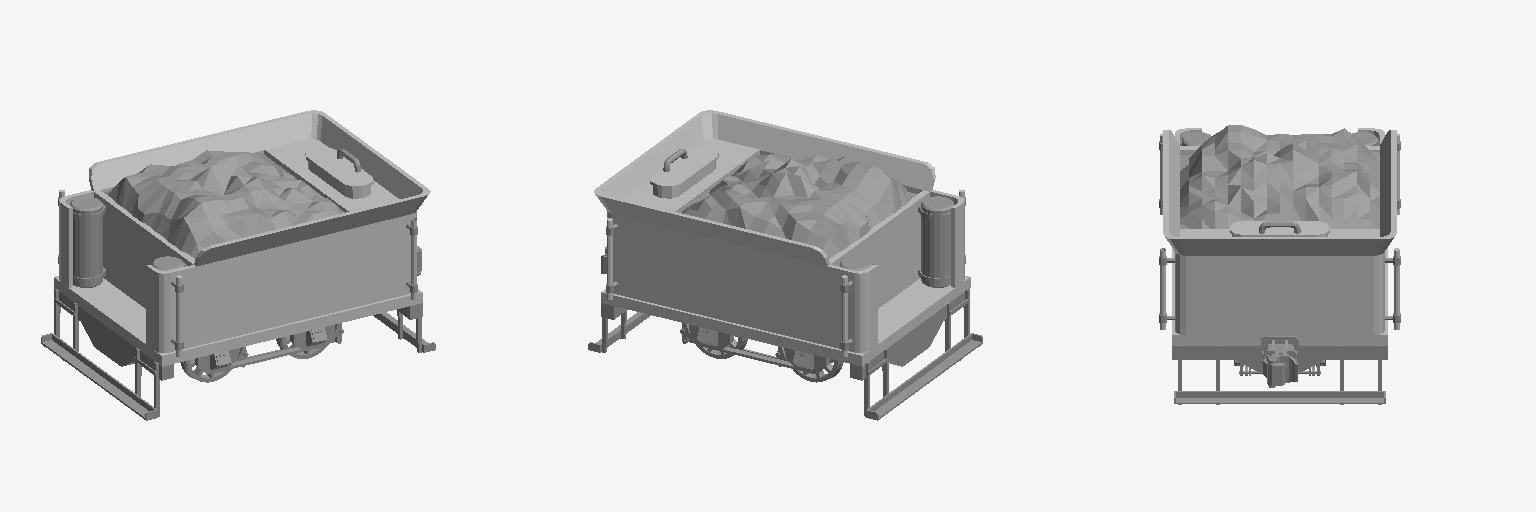
Rendered from porter0-4-0tender.obj.
3 renders of one model, left to right at view 1: azimuth 30°, elevation 25°; view 2: azimuth 150°, elevation 25°; view 3: azimuth 270°, elevation 25°, orthographic.
Visible parts, largest first — view 1: SHELL_Cube.004_Cube.036, Plane.056, FRAME_Cube.001_Cube.035, Cube.005_Cube.039, SHELL.001_FRAME.004_Cube.014_FRAME.004_Cube.009_FRAME.004_C.001, PIPING.004_Cylinder.006_Cylinder.005_PIPING.004_Cylinder.00.003, Cube.006_Cube.040, PIPING.002_NurbsPath.006_NurbsPath.002, FRAME.048_Cube.000, FRAME.001_Cube.001, NurbsPath.012_NurbsPath.015; view 2: SHELL_Cube.004_Cube.036, Plane.056, FRAME_Cube.001_Cube.035, Cube.005_Cube.039, SHELL.001_FRAME.004_Cube.014_FRAME.004_Cube.009_FRAME.004_C.001, PIPING.004_Cylinder.006_Cylinder.005_PIPING.004_Cylinder.00.003, FRAME.048_Cube.000, Cube.006_Cube.040, PIPING.002_NurbsPath.006_NurbsPath.002, FRAME.001_Cube.001, NurbsPath.012_NurbsPath.015; view 3: SHELL_Cube.004_Cube.036, Plane.056, SHELL.001_FRAME.004_Cube.014_FRAME.004_Cube.009_FRAME.004_C.001, FRAME_Cube.001_Cube.035, FRAME.048_Cube.000, NurbsPath.012_NurbsPath.015, PIPING.002_NurbsPath.006_NurbsPath.002, FRAME.004_Cube.018_FRAME.004_Cube.000_FRAME.004_Cube.018_FRAME., Cube.006_Cube.040, FRAME.004_Cube.018_FRAME.004_Cube.000_FRAME.004_Cube.018_FR.002, PIPING.004_Cylinder.006_Cylinder.005_PIPING.004_Cylinder.00.003.
Part boxes in pixels (bbox=[...]): SHELL_Cube.004_Cube.036: bbox=[59, 110, 430, 352]; Plane.056: bbox=[104, 150, 344, 259]; FRAME_Cube.001_Cube.035: bbox=[54, 276, 422, 366]; Cube.005_Cube.039: bbox=[94, 150, 347, 308]; SHELL.001_FRAME.004_Cube.014_FRAME.004_Cube.009_FRAME.004_C.001: bbox=[41, 289, 435, 420]; PIPING.004_Cylinder.006_Cylinder.005_PIPING.004_Cylinder.00.003: bbox=[70, 197, 186, 287]; Cube.006_Cube.040: bbox=[265, 139, 399, 211]; PIPING.002_NurbsPath.006_NurbsPath.002: bbox=[305, 147, 373, 198]; FRAME.048_Cube.000: bbox=[54, 288, 422, 380]; FRAME.001_Cube.001: bbox=[195, 325, 332, 374]; NurbsPath.012_NurbsPath.015: bbox=[58, 190, 417, 356]; SHELL_Cube.004_Cube.036: bbox=[594, 110, 964, 352]; Plane.056: bbox=[681, 154, 916, 258]; FRAME_Cube.001_Cube.035: bbox=[601, 276, 970, 366]; Cube.005_Cube.039: bbox=[676, 150, 929, 308]; SHELL.001_FRAME.004_Cube.014_FRAME.004_Cube.009_FRAME.004_C.001: bbox=[588, 289, 982, 420]; PIPING.004_Cylinder.006_Cylinder.005_PIPING.004_Cylinder.00.003: bbox=[837, 196, 953, 287]; FRAME.048_Cube.000: bbox=[601, 288, 969, 380]; Cube.006_Cube.040: bbox=[625, 139, 758, 211]; PIPING.002_NurbsPath.006_NurbsPath.002: bbox=[650, 147, 718, 198]; FRAME.001_Cube.001: bbox=[691, 325, 829, 374]; NurbsPath.012_NurbsPath.015: bbox=[606, 190, 965, 356]; SHELL_Cube.004_Cube.036: bbox=[1163, 128, 1396, 334]; Plane.056: bbox=[1180, 125, 1379, 228]; SHELL.001_FRAME.004_Cube.014_FRAME.004_Cube.009_FRAME.004_C.001: bbox=[1174, 345, 1385, 404]; FRAME_Cube.001_Cube.035: bbox=[1172, 248, 1387, 345]; FRAME.048_Cube.000: bbox=[1172, 346, 1387, 371]; NurbsPath.012_NurbsPath.015: bbox=[1159, 133, 1400, 329]; PIPING.002_NurbsPath.006_NurbsPath.002: bbox=[1230, 221, 1329, 236]; FRAME.004_Cube.018_FRAME.004_Cube.000_FRAME.004_Cube.018_FRAME.: bbox=[1263, 350, 1297, 387]; Cube.006_Cube.040: bbox=[1180, 229, 1379, 236]; FRAME.004_Cube.018_FRAME.004_Cube.000_FRAME.004_Cube.018_FR.002: bbox=[1261, 336, 1298, 361]; PIPING.004_Cylinder.006_Cylinder.005_PIPING.004_Cylinder.00.003: bbox=[1180, 132, 1378, 145].
Size of the model in its own units: 6.85 by 3.79 by 4.42.